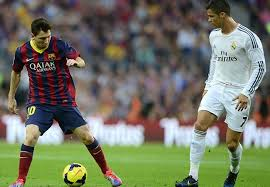barcelona: (4, 17, 121, 187)
realmadrid: (167, 1, 270, 185)
